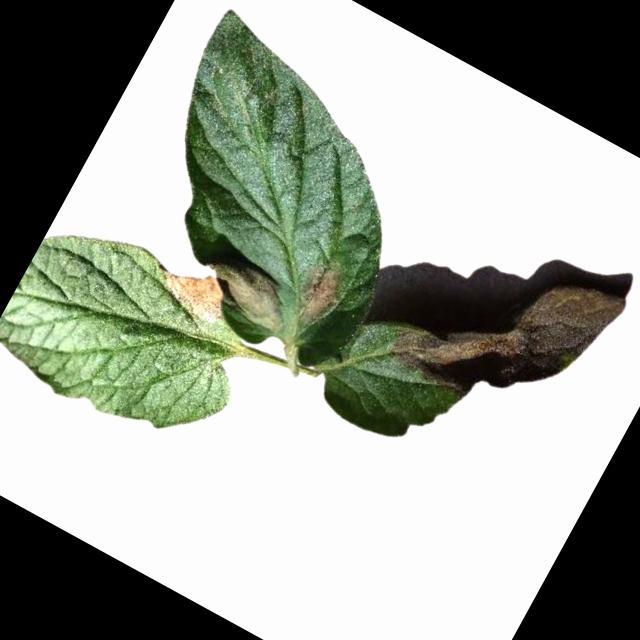Late_blight: (382, 211, 629, 447), (193, 242, 304, 336), (152, 253, 243, 332), (283, 257, 353, 336)
